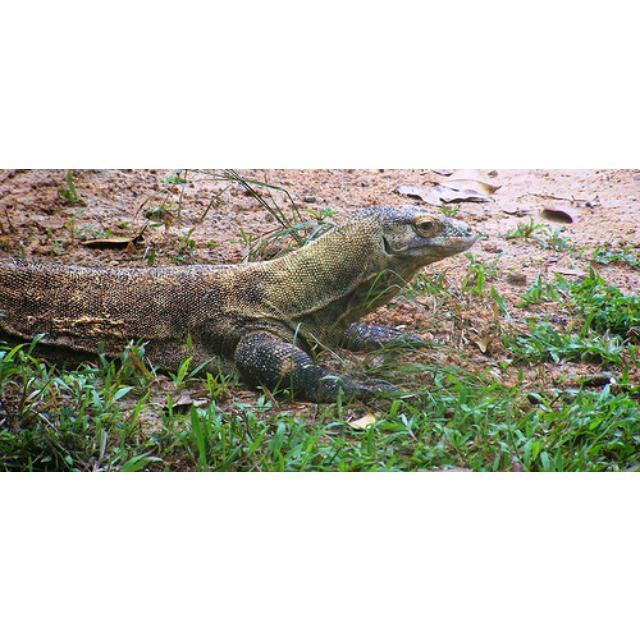KomodoDragon: (1, 203, 478, 402)
